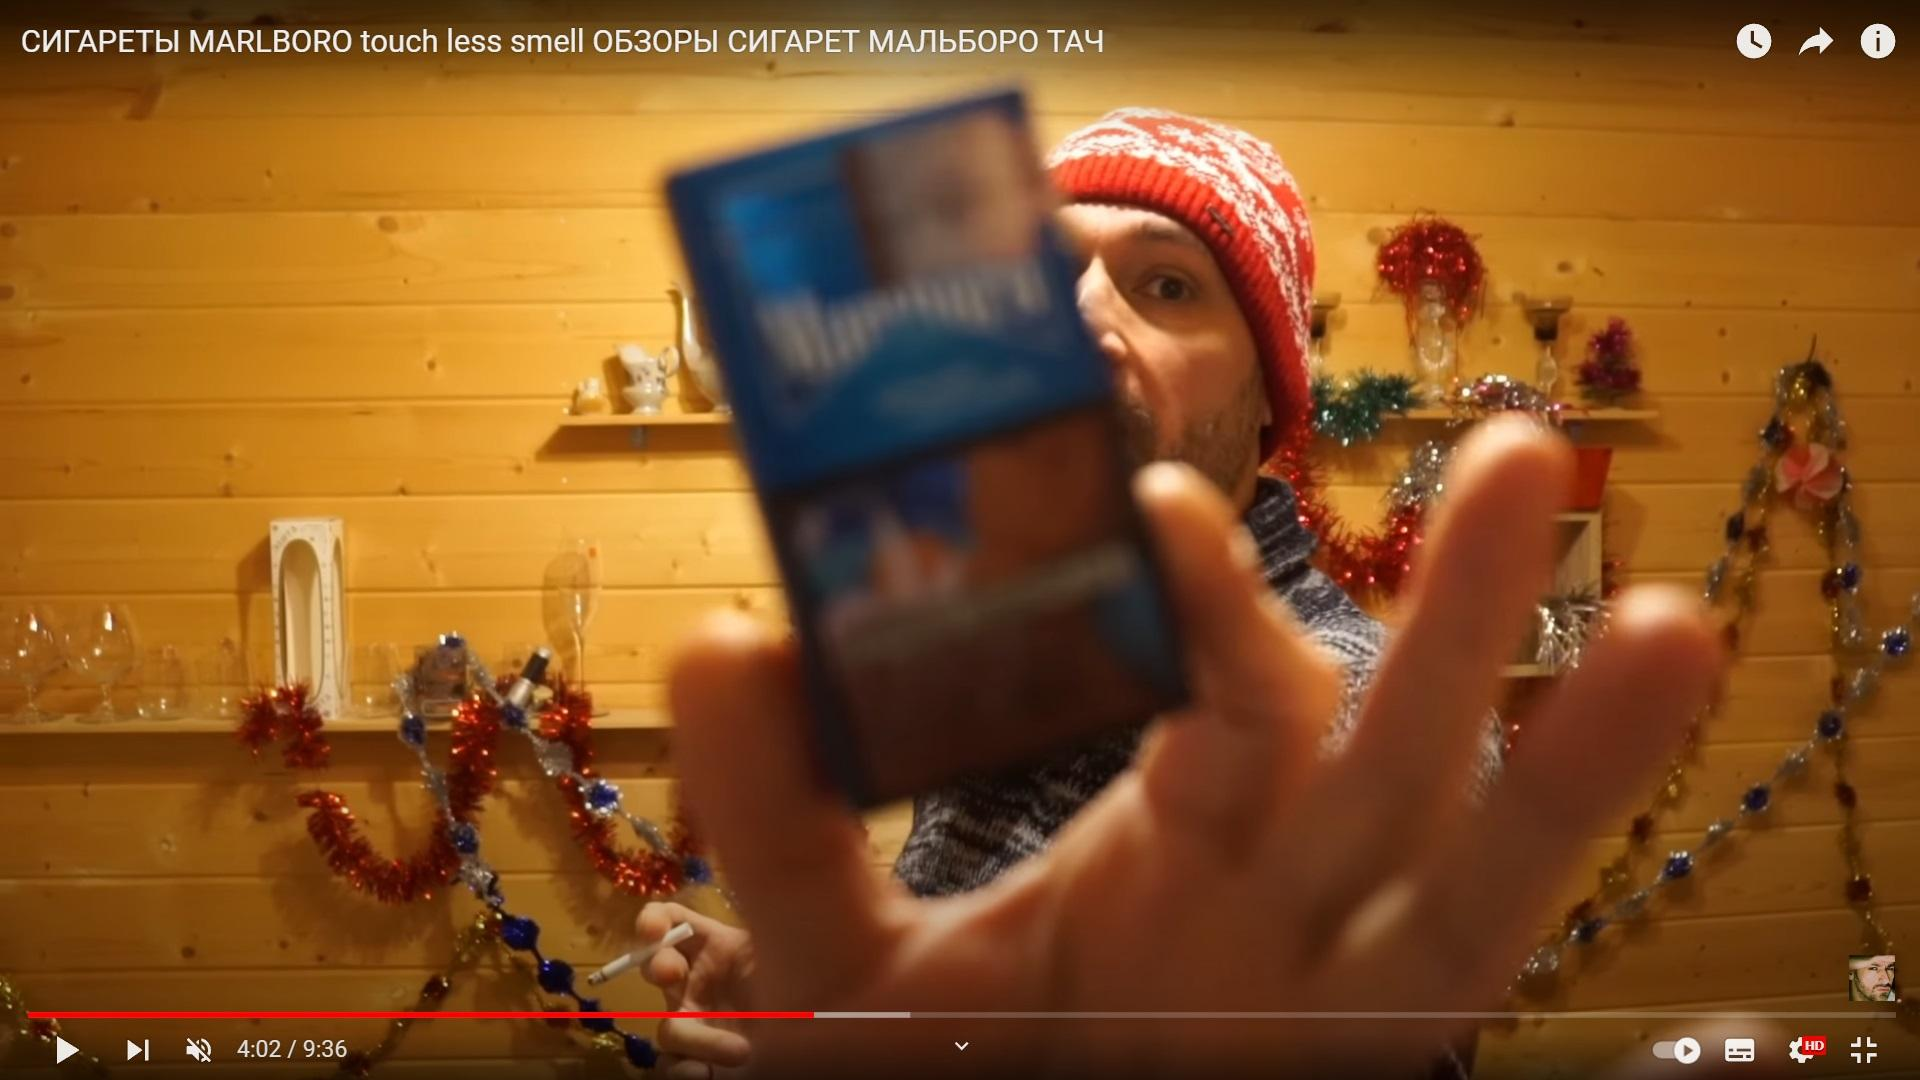cigarette: (588, 922, 694, 986)
